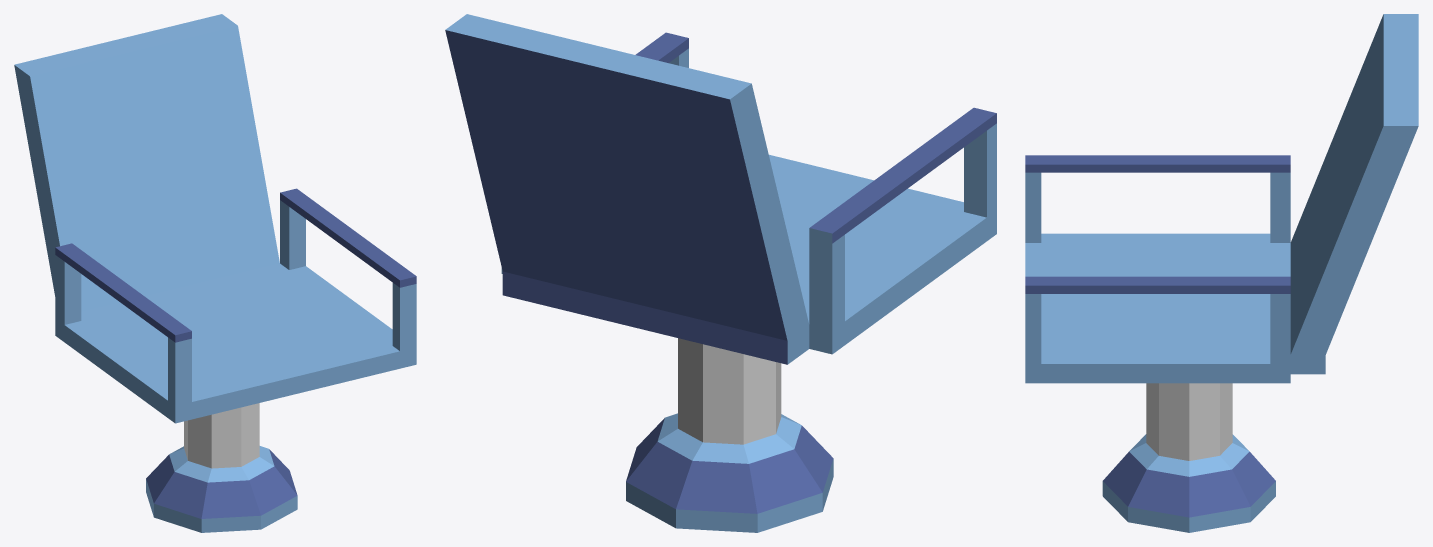
Rendered from berber.fbx.
3 views of the same model, side by side, from view 1: azimuth 30°, elevation 25°; view 2: azimuth 150°, elevation 25°; view 3: azimuth 270°, elevation 25° (orthographic). The views are drawn at different scales.
Visible parts, largest first — view 1: Cube; view 2: Cube; view 3: Cube.
Part boxes in pixels (box(x1,y1,x2,y2)): Cube: box(14, 14, 416, 532); Cube: box(445, 14, 996, 532); Cube: box(1025, 14, 1418, 532).
Size of the model in its own units: 84.12 by 128 by 107.
